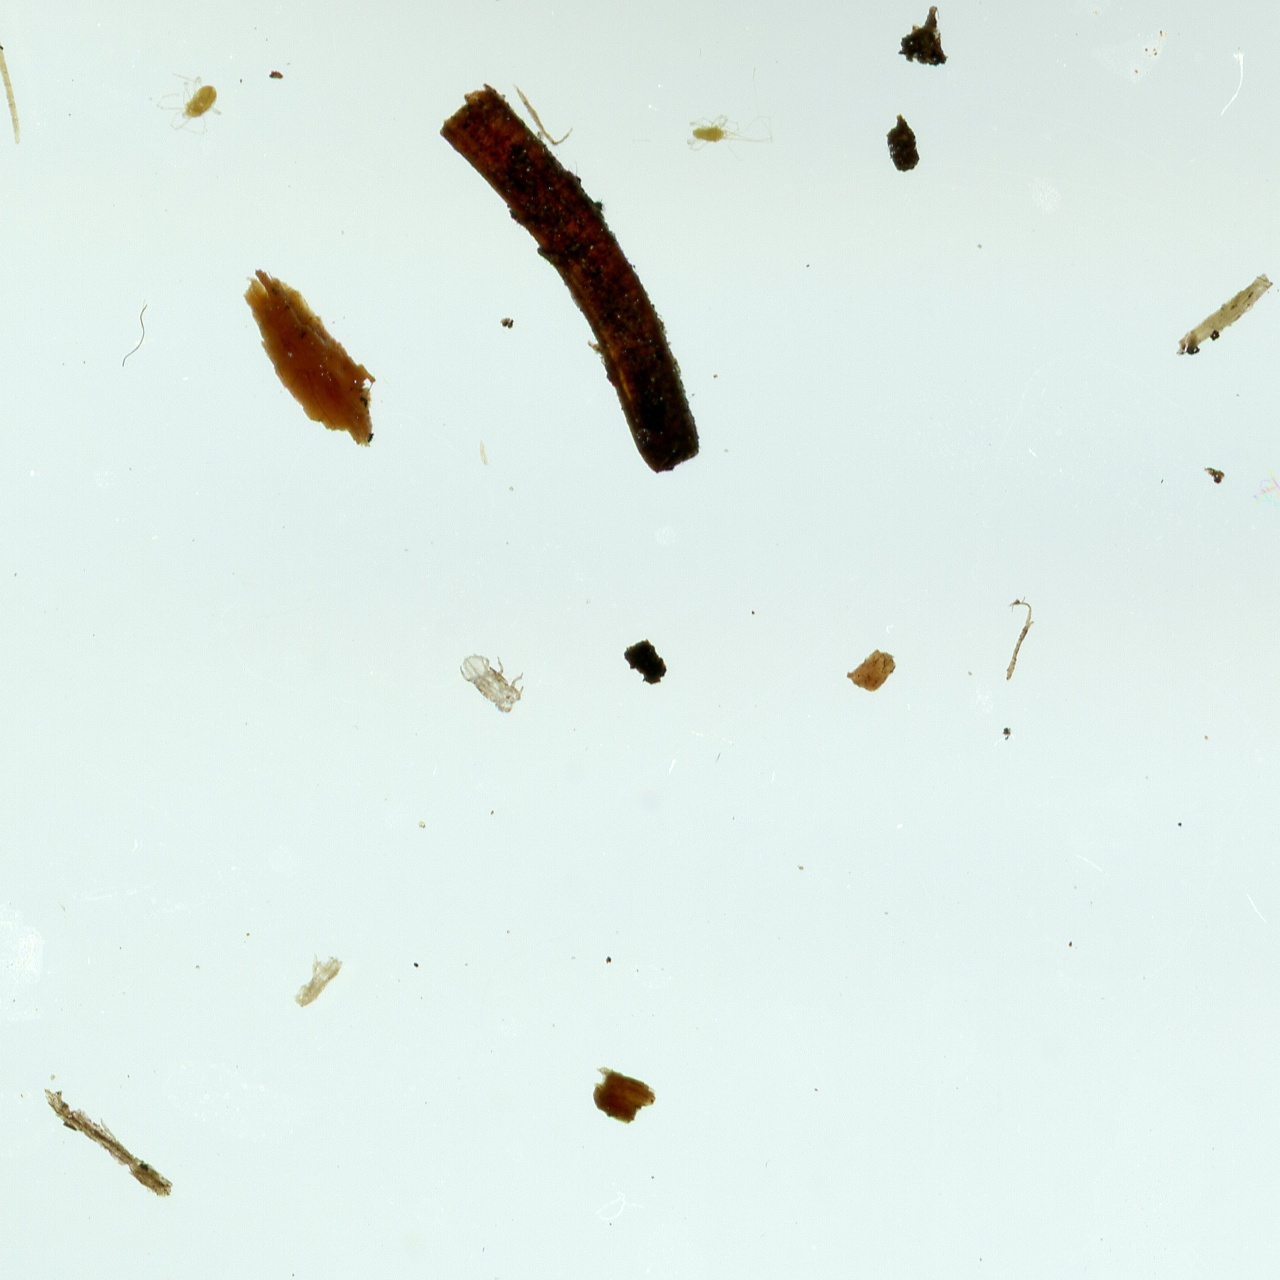arthropod: (153, 66, 231, 140), (455, 647, 533, 719), (682, 112, 777, 165)
